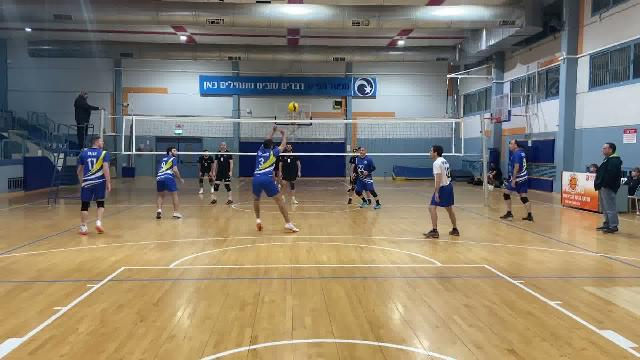ball: (288, 98, 299, 118)
